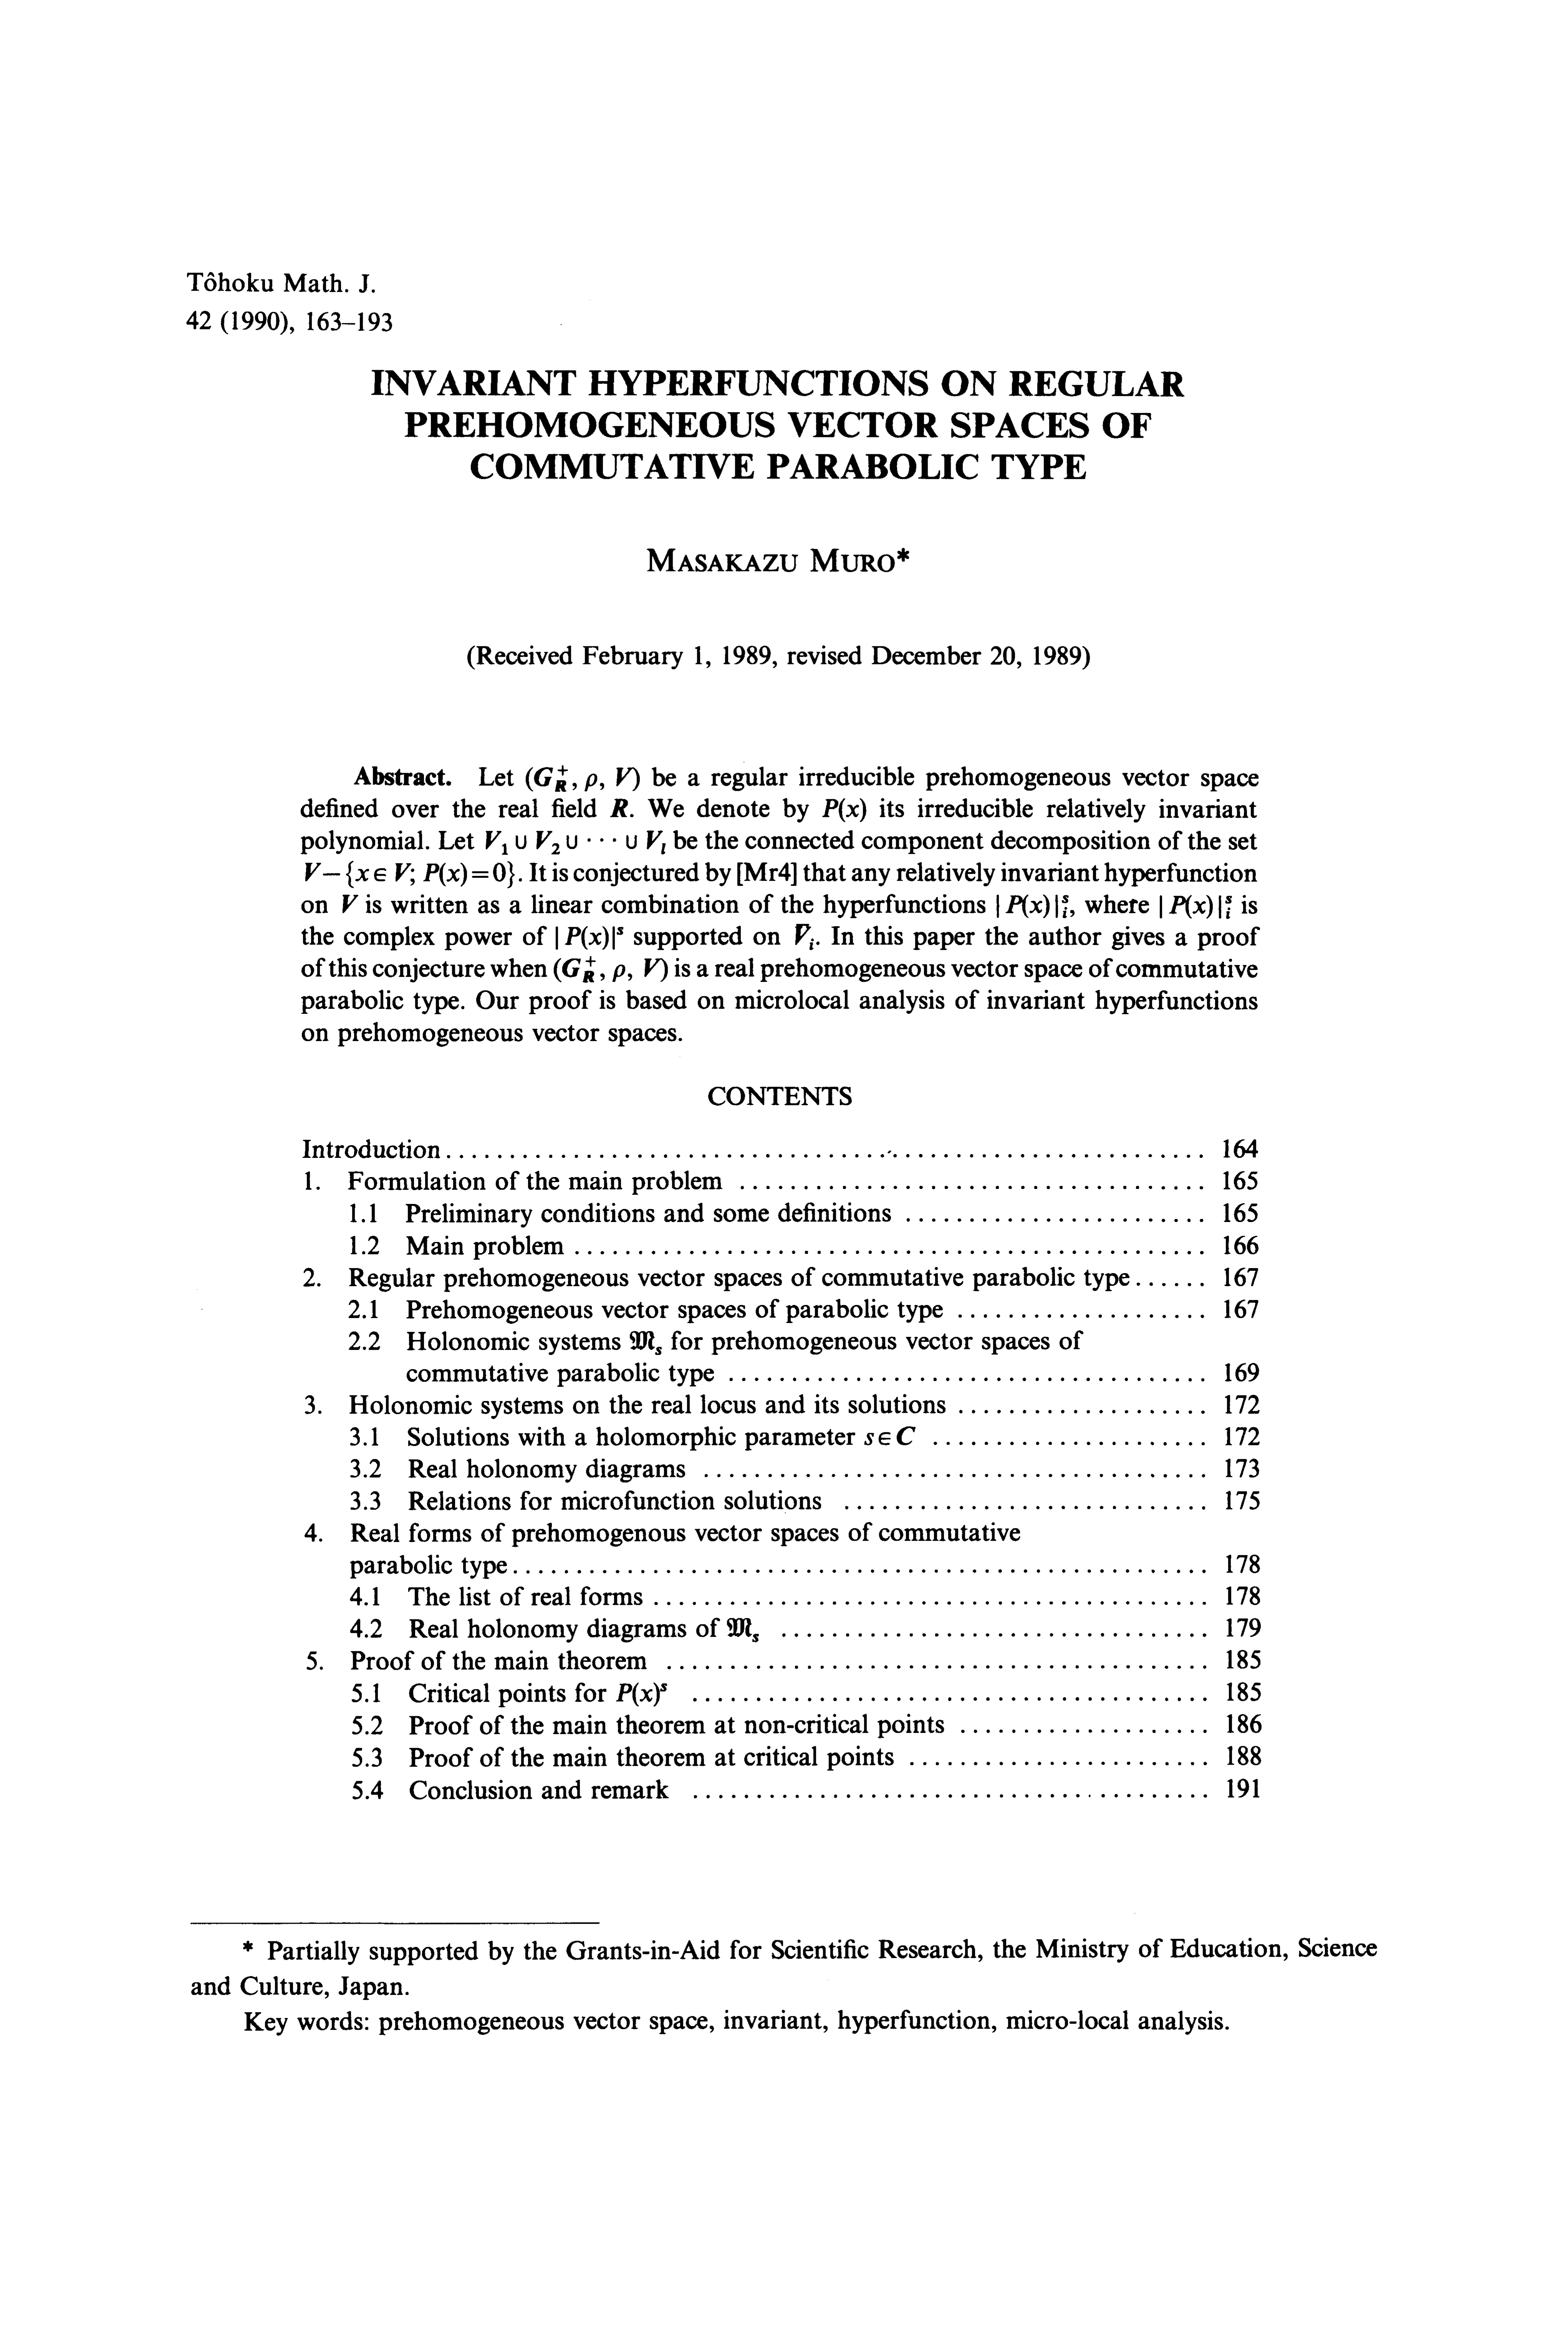maths: (305, 861, 514, 887), (487, 831, 665, 854), (525, 765, 639, 791), (553, 956, 667, 982), (1160, 894, 1232, 919), (998, 894, 1069, 917), (555, 926, 623, 949), (616, 1682, 667, 1706), (822, 798, 866, 823), (865, 1426, 915, 1444), (726, 1617, 758, 1642), (630, 1332, 661, 1355), (796, 924, 814, 950), (611, 798, 626, 817), (343, 894, 357, 914)
